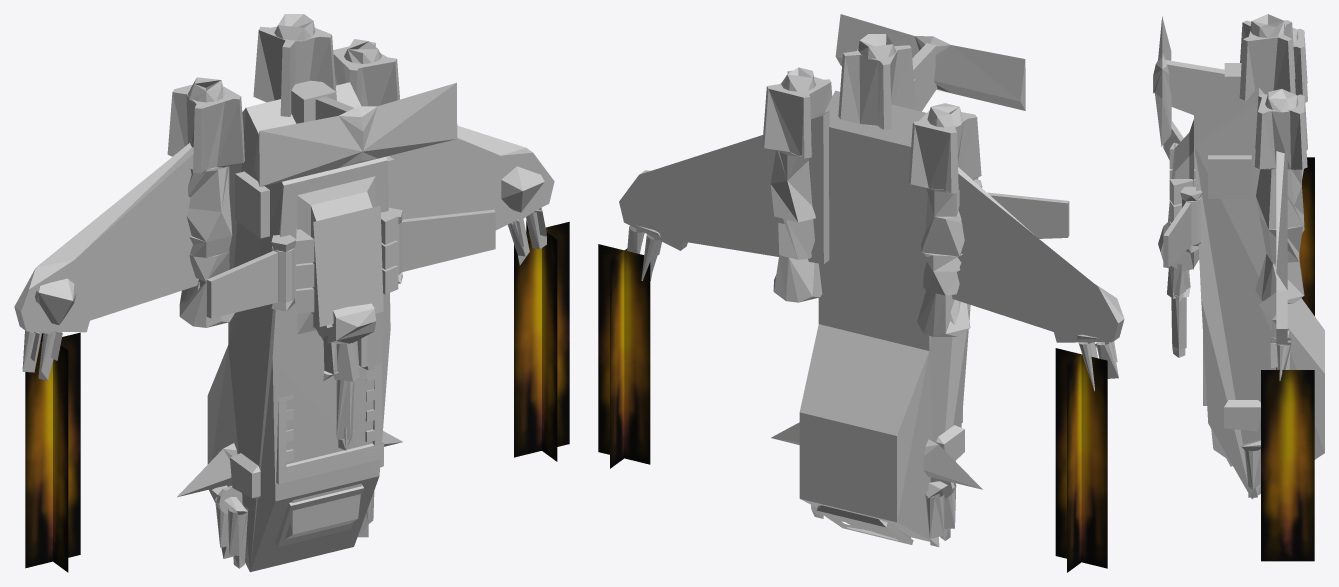
File: thunderhawkBoned_wtf.obj
The picture shows the model from 3 angles, left to right: view 1: azimuth 30°, elevation 25°; view 2: azimuth 150°, elevation 25°; view 3: azimuth 270°, elevation 25°; orthographic projection. The views are drawn at different scales.
Parts seen in each view (by area): view 1: group4, group13, group5, group7, group6, group8, group10, group2, group1, group3; view 2: group4, group5, group13, group6, group8, group12; view 3: group4, group5, group13, group6, group7, group2, group8, group10, group1, group3.
Part boxes in pixels (x1,y1,x2,y2): group4: [14, 80, 554, 572]; group13: [25, 220, 569, 572]; group5: [167, 14, 399, 327]; group7: [27, 166, 544, 334]; group6: [22, 207, 547, 514]; group8: [215, 491, 374, 568]; group10: [315, 303, 376, 343]; group2: [336, 380, 354, 450]; group1: [323, 341, 368, 381]; group3: [323, 335, 367, 374]; group4: [619, 14, 1124, 541]; group5: [762, 34, 981, 538]; group13: [598, 244, 1107, 572]; group6: [627, 179, 1118, 498]; group8: [811, 483, 956, 546]; group12: [816, 505, 913, 544]; group4: [1153, 16, 1324, 498]; group5: [1239, 14, 1307, 303]; group13: [1261, 157, 1314, 561]; group6: [1180, 186, 1291, 450]; group7: [1182, 169, 1289, 344]; group2: [1171, 285, 1186, 357]; group8: [1244, 449, 1260, 497]; group10: [1158, 222, 1199, 271]; group1: [1167, 266, 1190, 302]; group3: [1174, 264, 1184, 296].
Bounding box in the file's own units: 660 × 603 × 205.
